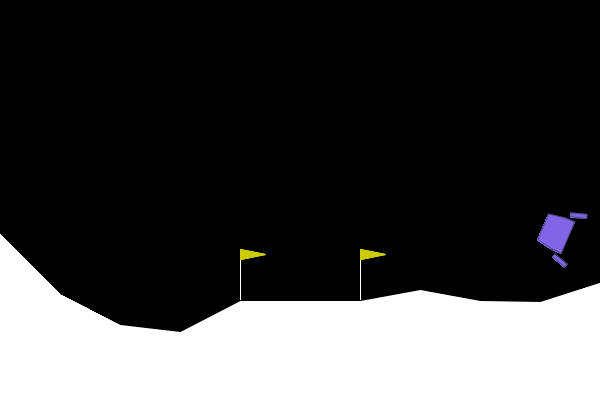lander: (529, 199, 589, 270)
